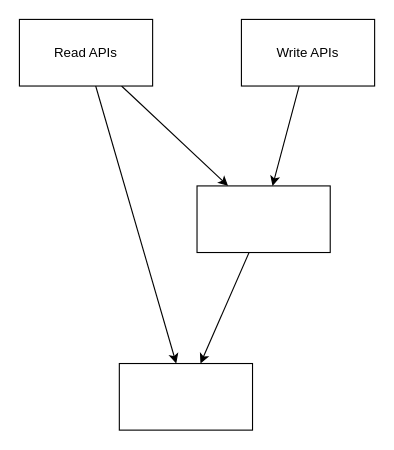
Some shapes in this 394 by 450 pixel diagram are drawn without their labels. Here are the shapes that lost their labels. From the top down, the box of each, then its label:
(196, 185, 330, 253): Schema APIs
(118, 362, 253, 430): ArcadeDB
